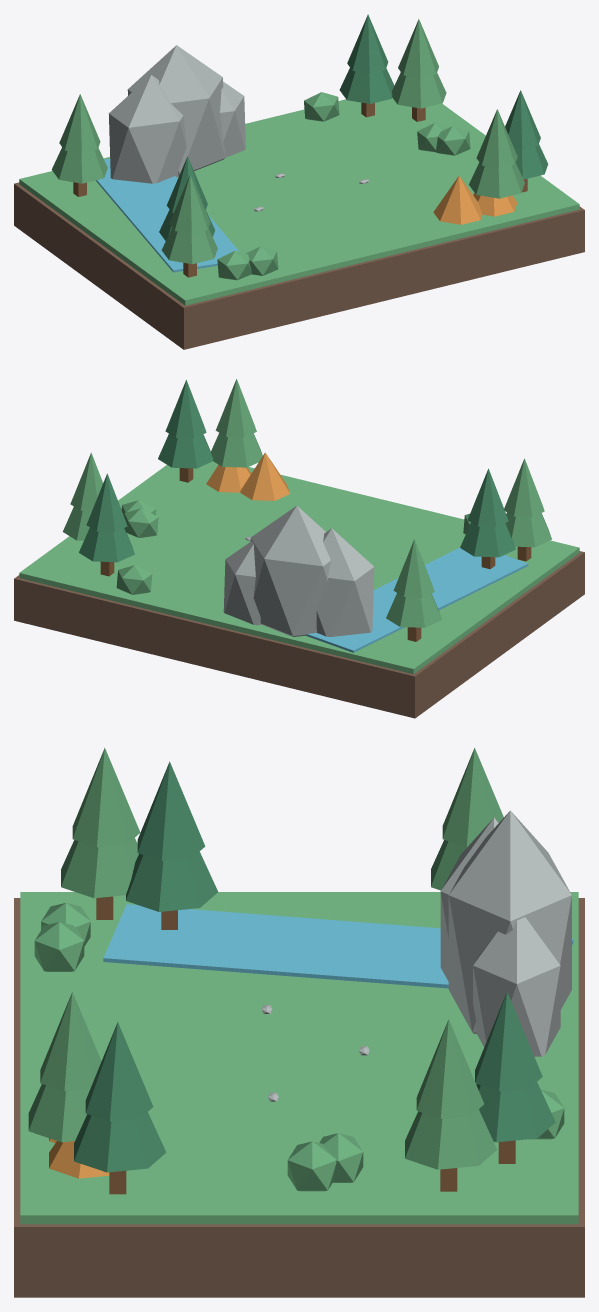
The model's file is greenfield-arena.glb.
3 renders of one model, top to bottom at view 1: azimuth 30°, elevation 25°; view 2: azimuth 150°, elevation 25°; view 3: azimuth 270°, elevation 25°, orthographic. The views are drawn at different scales.
Visible parts, largest first — view 1: walk_ground, arena_base, mountain, mountain.001, river, mountain.002, crown.002, crown.006, crown, crown.004, crown.003, tent (+14 smaller); view 2: walk_ground, arena_base, mountain.001, river, mountain, mountain.002, crown.002, crown.003, crown.001, crown.005, crown.006, tent (+12 smaller); view 3: walk_ground, arena_base, river, mountain.001, mountain.002, crown.004, crown.005, crown.001, crown2, crown2.001, crown2.005, crown2.004 (+13 smaller).
Part boxes in pixels (x1,y1,x2,y2): walk_ground: (19,98,579,305); arena_base: (14,182,584,349); mountain: (108,75,186,183); mountain.001: (127,45,225,175); river: (95,158,239,272); mountain.002: (220,81,245,157); crown.002: (51,147,107,183); crown.006: (469,162,524,198); crown: (161,228,217,264); crown.004: (392,72,446,108); crown.003: (339,68,394,103); tent: (433,175,482,224); walk_ground: (19,461,579,674); arena_base: (14,551,584,718); mountain.001: (250,505,330,636); river: (306,547,528,652); mountain: (316,528,374,636); mountain.002: (223,541,261,625); crown.002: (386,593,441,627); crown.003: (79,527,134,562); crown.001: (460,522,515,557); crown.005: (158,434,213,468); crown.006: (210,433,262,467); tent: (240,452,289,500); walk_ground: (20,892,578,1224); arena_base: (14,898,584,1297); river: (103,904,573,988); mountain.001: (448,810,571,1033); mountain.002: (473,917,560,1056); crown.004: (405,1109,497,1169); crown.005: (74,1112,166,1172); crown.001: (126,851,217,911); crown2: (72,747,140,847); crown2.001: (137,761,205,860); crown2.005: (85,1022,153,1121); crown2.004: (416,1019,483,1118).
Bounding box in the file's own units: 12 × 4.65 × 8.8.
